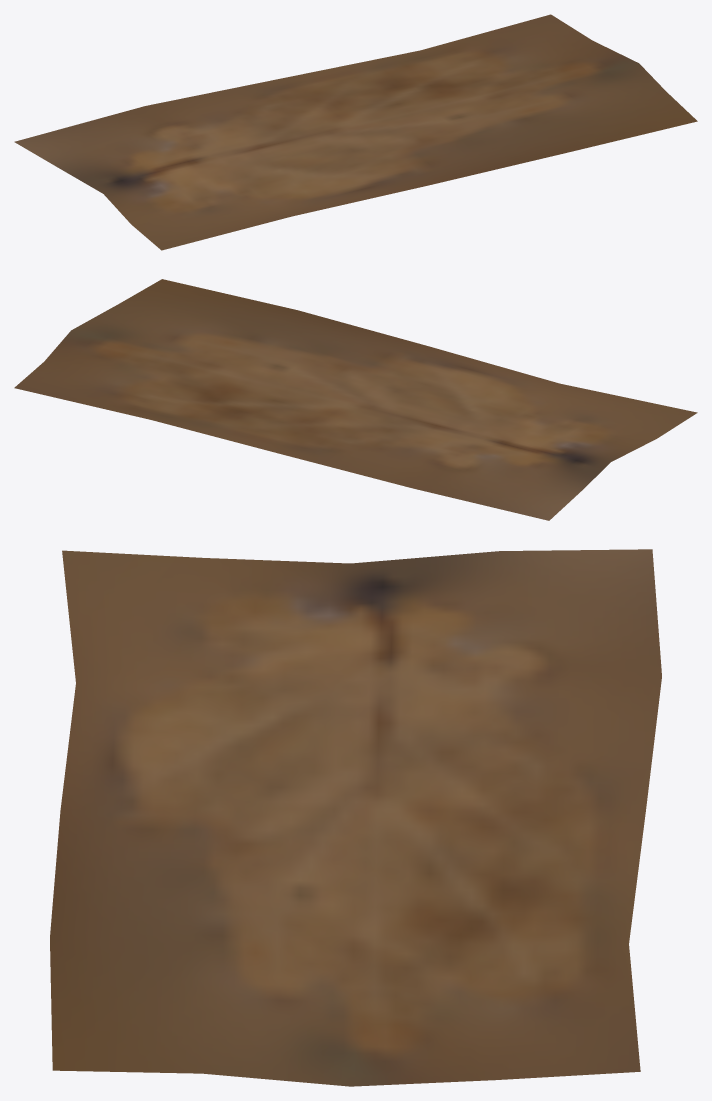
File: SM_Leaf_03.fbx
3 renders of one model, top to bottom at view 1: azimuth 30°, elevation 25°; view 2: azimuth 150°, elevation 25°; view 3: azimuth 270°, elevation 25°, orthographic. The views are drawn at different scales.
Parts seen in each view (by area): view 1: SM_Leaf_03; view 2: SM_Leaf_03; view 3: SM_Leaf_03.
Part boxes in pixels (left/top/right/bottom): SM_Leaf_03: left=14, top=14, right=697, bottom=250; SM_Leaf_03: left=14, top=279, right=697, bottom=520; SM_Leaf_03: left=50, top=549, right=661, bottom=1086.
Size of the model in its own units: 10.44 by 5.04 by 0.1756.
